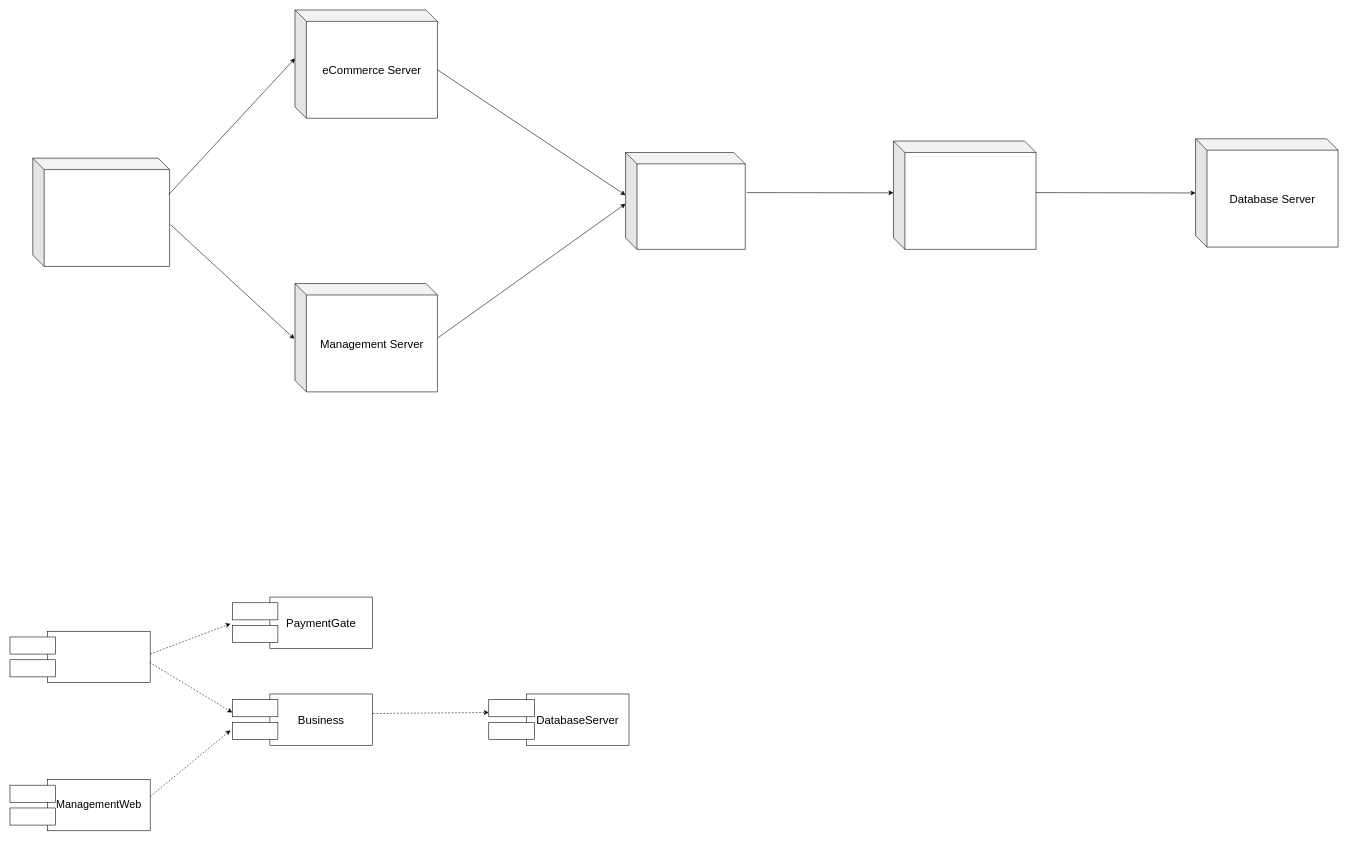
The diagram is 1348 pixels wide and 841 high, and some of its shapes have lost their labels. The centre of each missing label's shape, as x and y in pixels:
"Application Server" belongs at [964,195].
"Client Web Browser" belongs at [101,212].
"eCommerceWeb" belongs at [98,657].
"Firewall" belongs at [685,200].
